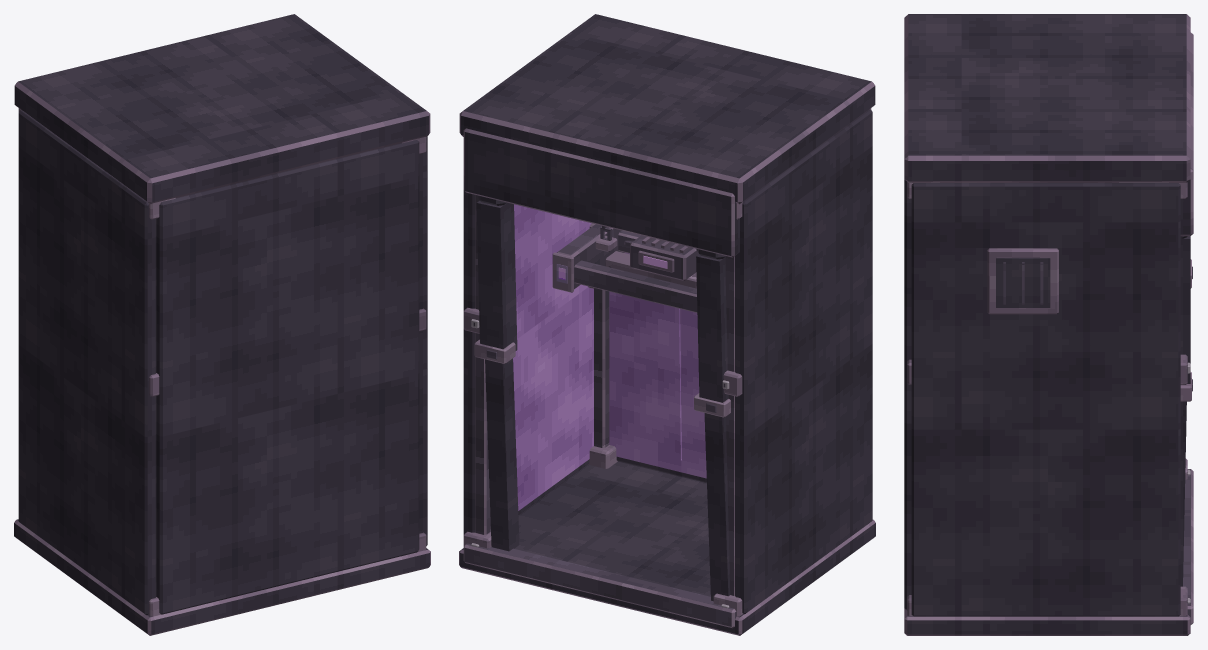
Rendered from tent_2.obj.
3 views of the same model, side by side, from view 1: azimuth 30°, elevation 25°; view 2: azimuth 150°, elevation 25°; view 3: azimuth 270°, elevation 25° (orthographic). The views are drawn at different scales.
Parts seen in each view (by area): view 1: model; view 2: model; view 3: model.
Part boxes in pixels (x1=…): model: x1=14, y1=14, x2=430, y2=635; model: x1=459, y1=14, x2=875, y2=635; model: x1=904, y1=14, x2=1193, y2=635.
Bounding box in the file's own units: 1.53 × 2.31 × 1.26.
